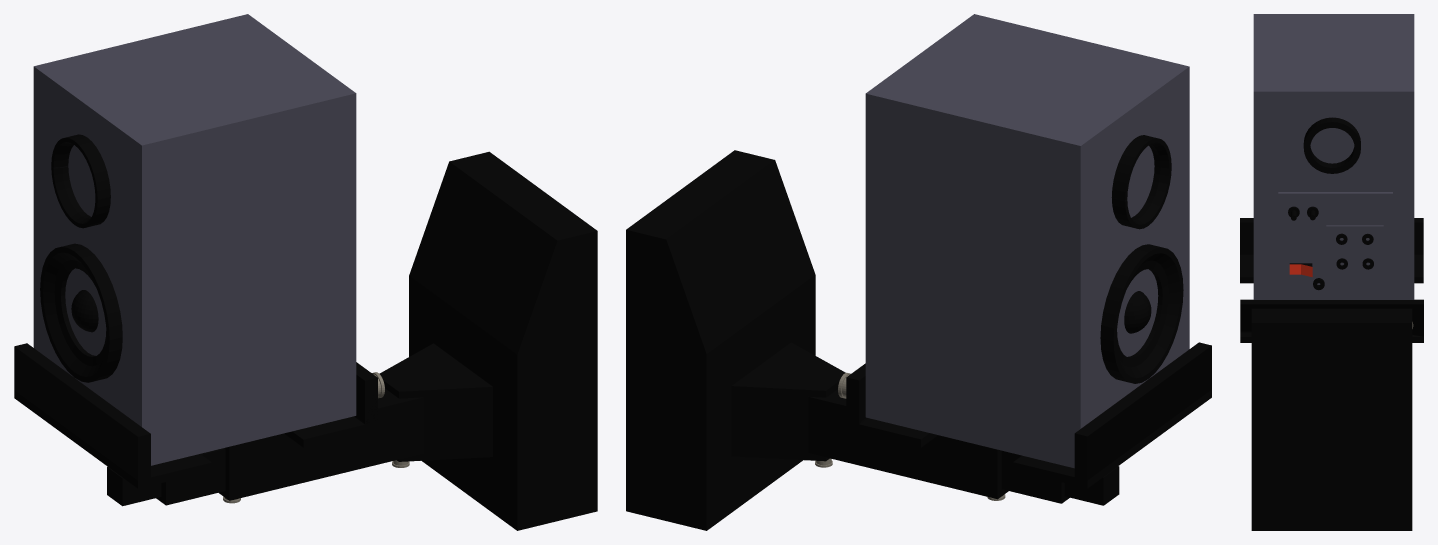
The model's file is Parlantes_FranciscoG_47203164.fbx.
3 renders of one model, left to right at view 1: azimuth 30°, elevation 25°; view 2: azimuth 150°, elevation 25°; view 3: azimuth 270°, elevation 25°, orthographic. The views are drawn at different scales.
Visible parts, largest first — view 1: Parlante&stand; view 2: Parlante&stand; view 3: Parlante&stand.
Boxes of the visible parts, x1,y1,x2,y2 form: Parlante&stand: (14, 14, 597, 530); Parlante&stand: (626, 14, 1211, 530); Parlante&stand: (1240, 14, 1423, 530).
Bounding box in the file's own units: 34.9 × 33.92 × 16.02.
Materials: 1 (1 with a texture image).
